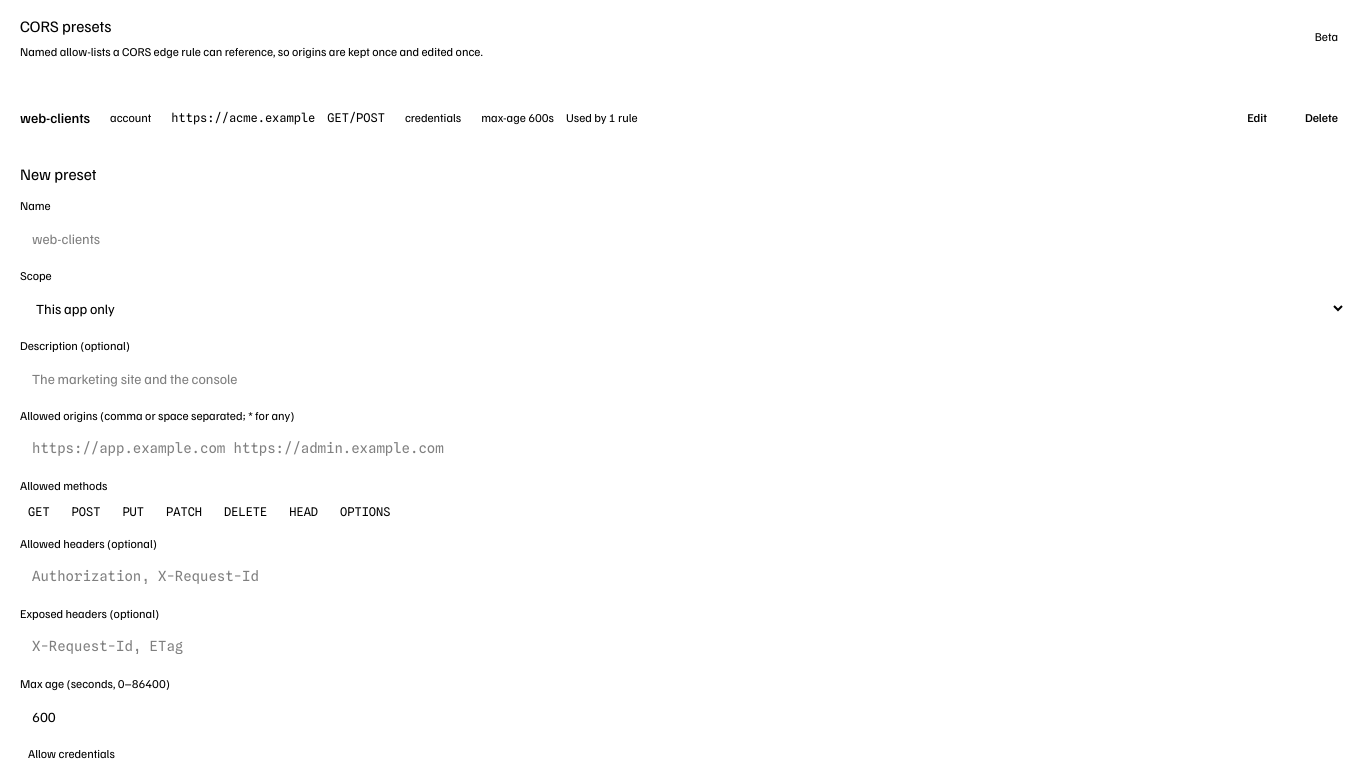
it: CorsPresetsPanel › refuses a wildcard origin with credentials before sending it
In the field named "Preset name": (683, 238) [20,220,1346,256], type "open"
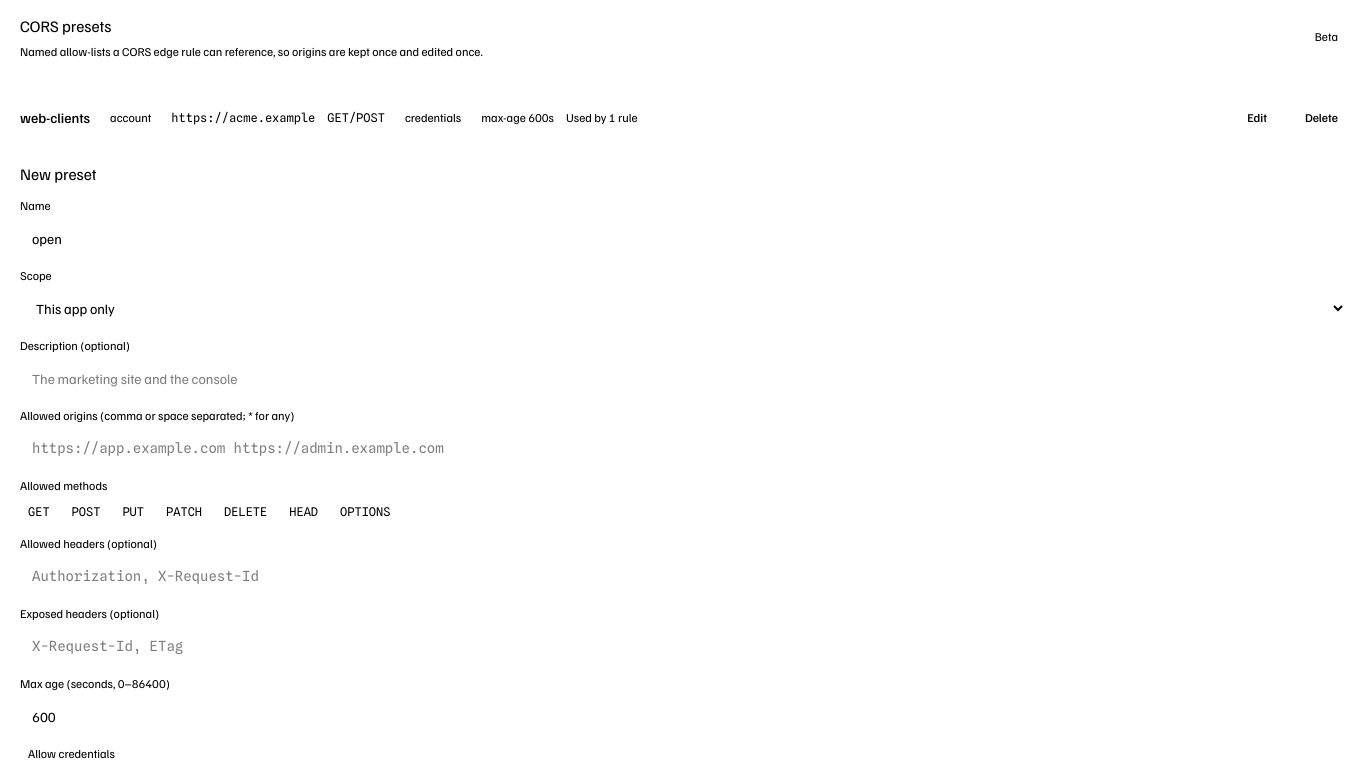
In the field labelled "Allowed origins": (683, 448) [20,430,1346,466], type "*"
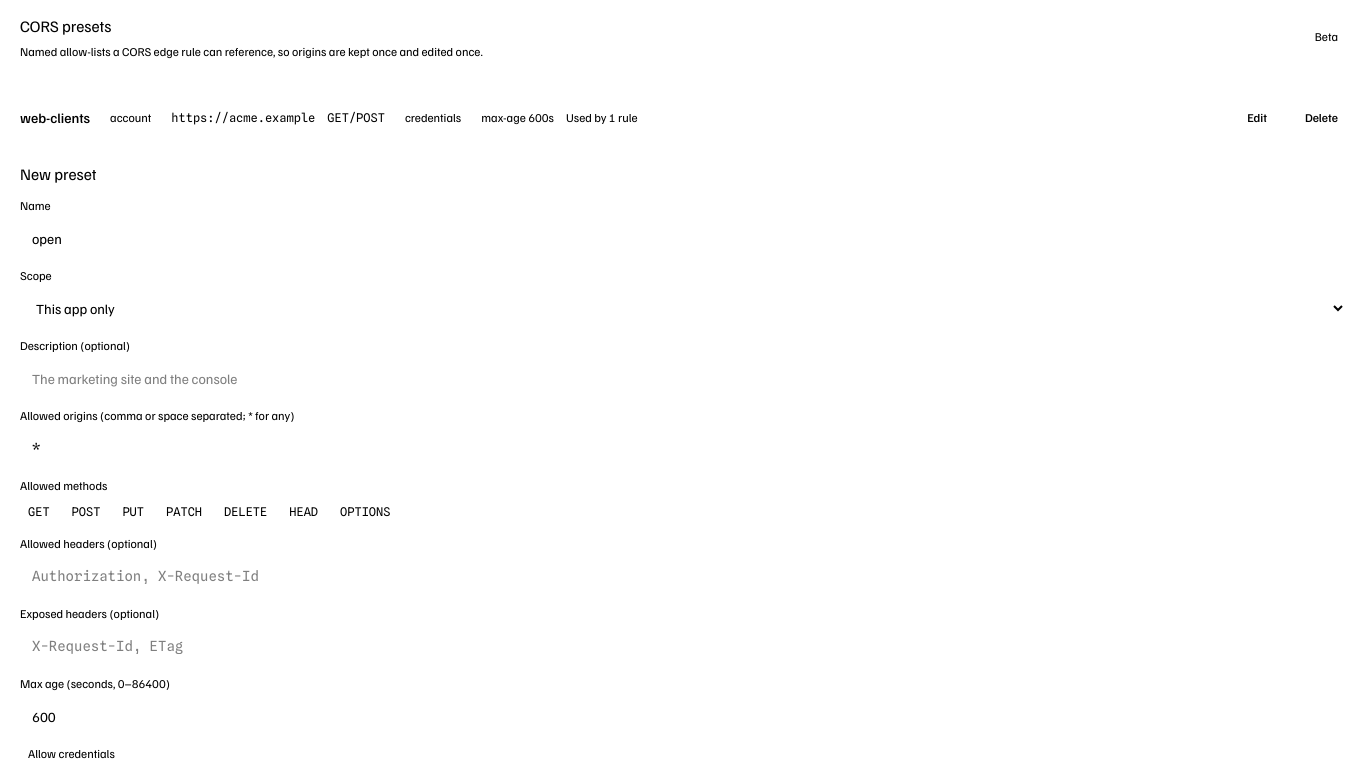
Click the button "Allow credentials": (71, 754) [28,746,115,761]
(page scrolled)
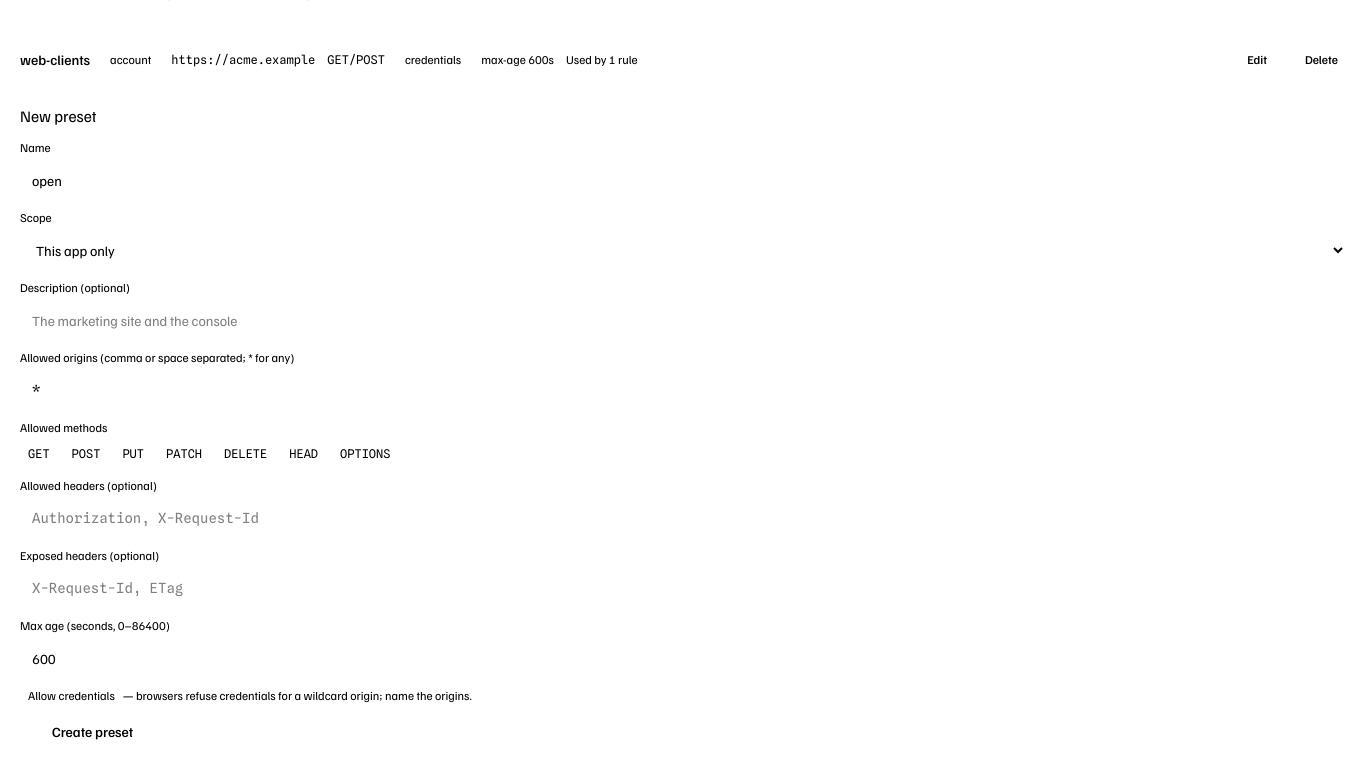
Now the text "browsers refuse credentials for a wildcard" is shown, box [123,688,472,703]
Now the button "Create preset" is disabled, box [20,716,145,748]
